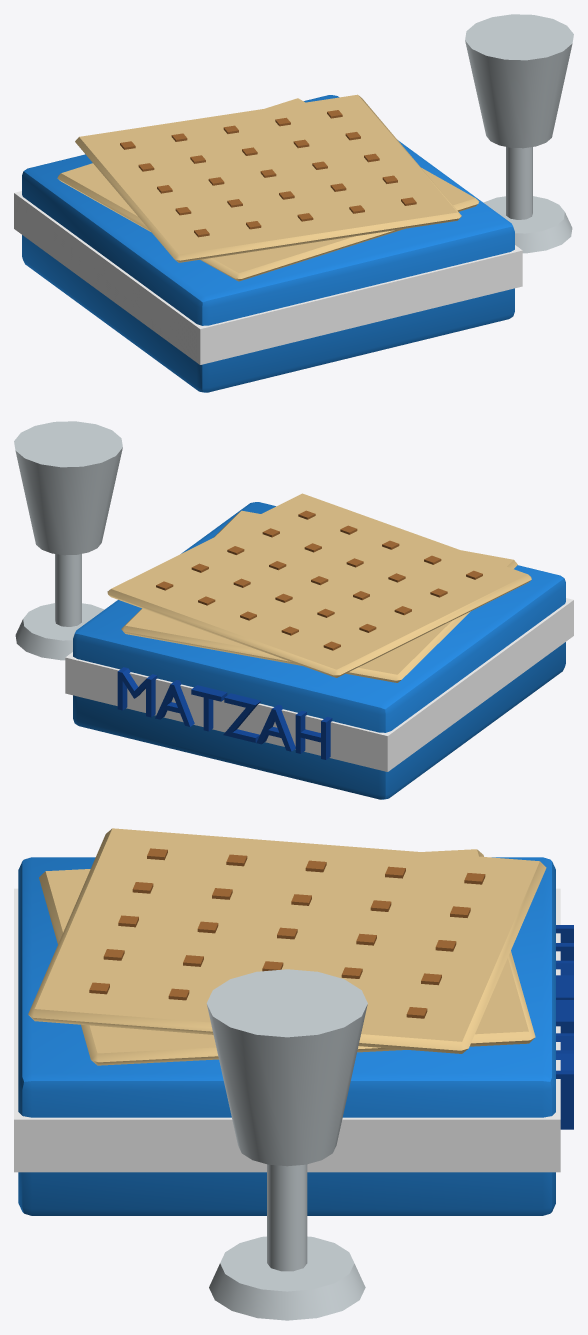
File: meta_matzah.glb
3 views of the same model, one above another, from view 1: azimuth 30°, elevation 25°; view 2: azimuth 150°, elevation 25°; view 3: azimuth 270°, elevation 25° (orthographic). The views are drawn at different scales.
Parts seen in each view (by area): view 1: MetaMatzah_body; view 2: MetaMatzah_body; view 3: MetaMatzah_body.
Part boxes in pixels (x1,y1,x2,y2): MetaMatzah_body: (14,14,573,392); MetaMatzah_body: (14,421,573,799); MetaMatzah_body: (14,828,573,1320).
Bounding box in the file's own units: 0.348 × 0.14 × 0.25.
